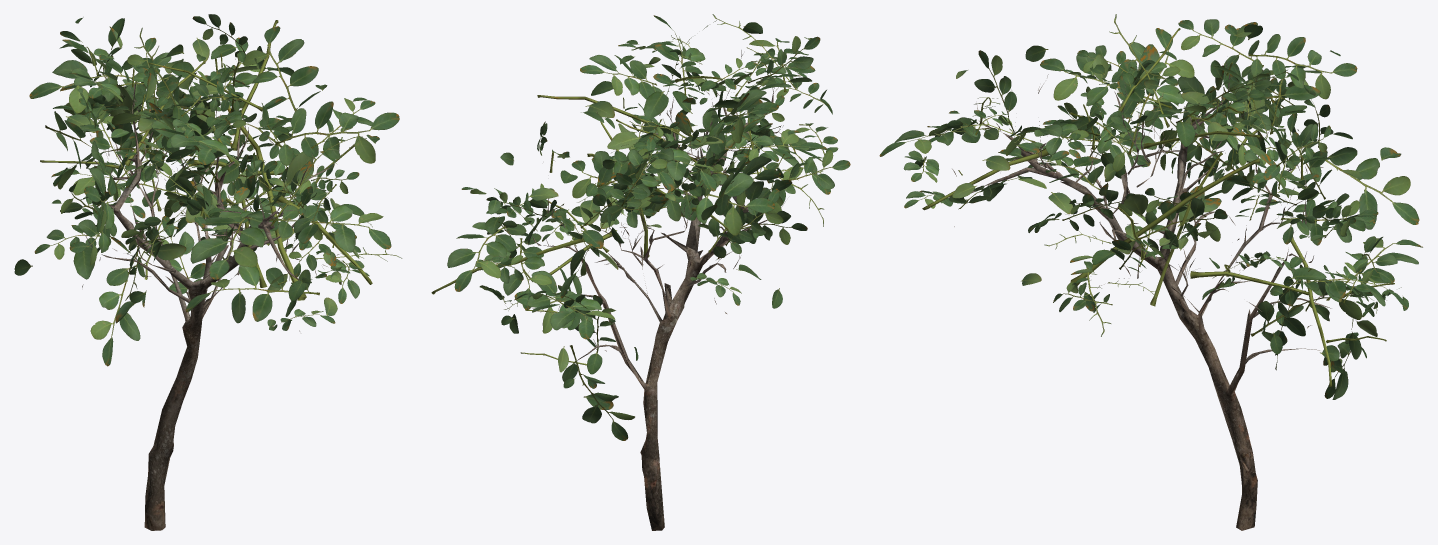
Rendered from tree_small.glb.
3 views of the same model, side by side, from view 1: azimuth 30°, elevation 25°; view 2: azimuth 150°, elevation 25°; view 3: azimuth 270°, elevation 25° (orthographic). The views are drawn at different scales.
Visible parts, largest first — view 1: tree_small_02_LOD0; view 2: tree_small_02_LOD0; view 3: tree_small_02_LOD0.
Part boxes in pixels (box(x1,y1,x2,y2)): tree_small_02_LOD0: box(14, 14, 402, 530); tree_small_02_LOD0: box(431, 14, 850, 530); tree_small_02_LOD0: box(879, 14, 1422, 530).
Bounding box in the file's own units: 2.91 × 4.2 × 4.05.
Materials: 3 (3 with a texture image).
